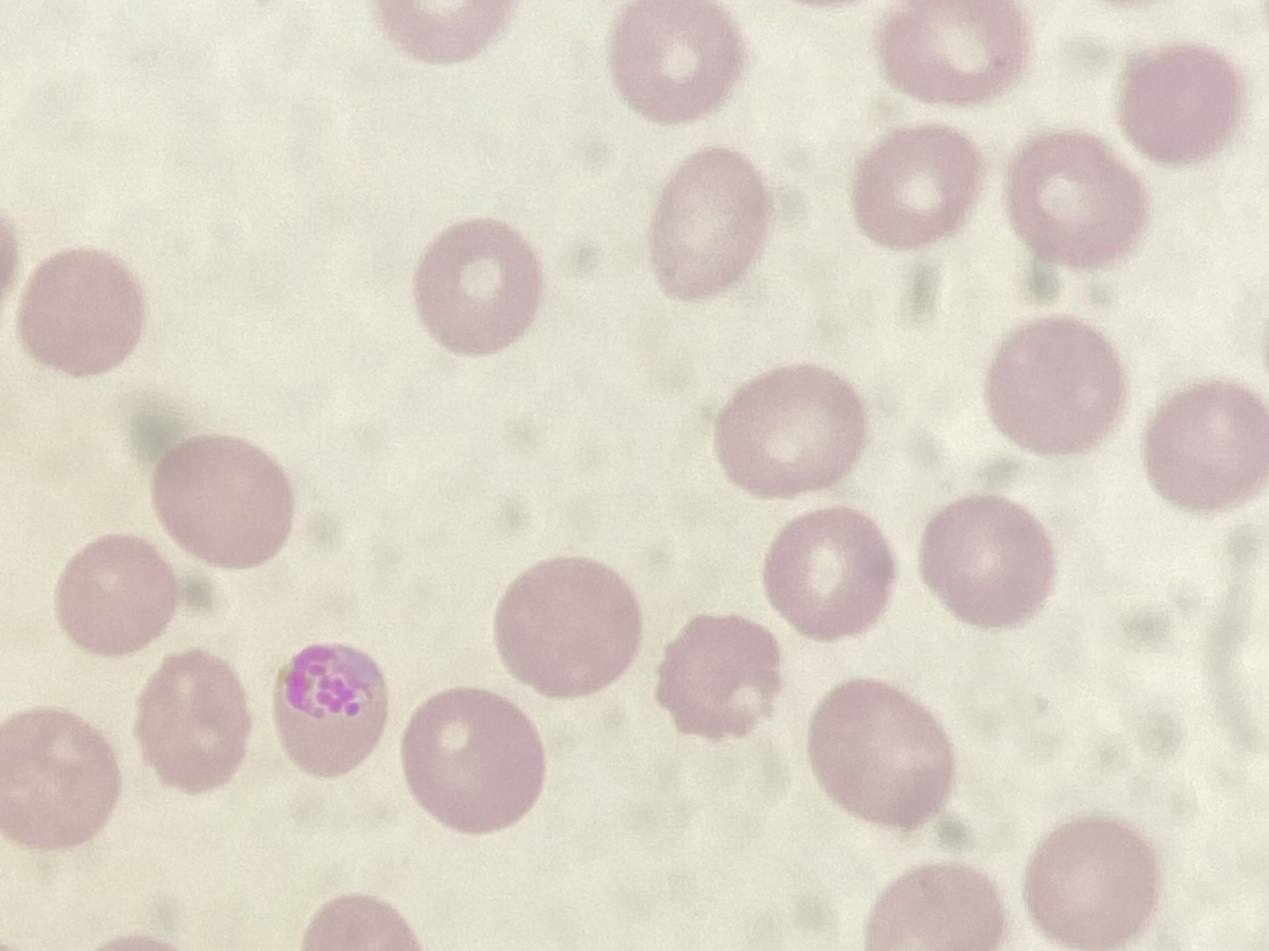Infected: (275, 641, 389, 776)
Uninfected: (809, 681, 953, 829), (402, 689, 542, 834), (496, 558, 640, 696), (717, 364, 863, 495), (152, 434, 294, 568), (988, 323, 1126, 458), (1008, 132, 1144, 267), (920, 495, 1051, 627), (650, 149, 770, 293), (414, 219, 542, 352), (1024, 817, 1156, 944), (0, 707, 118, 848), (136, 650, 253, 792), (764, 509, 893, 637), (18, 249, 146, 376), (1143, 381, 1268, 508), (852, 127, 981, 247), (656, 614, 780, 738), (611, 2, 740, 120), (879, 2, 1026, 105), (55, 534, 176, 657), (1119, 44, 1241, 163)
